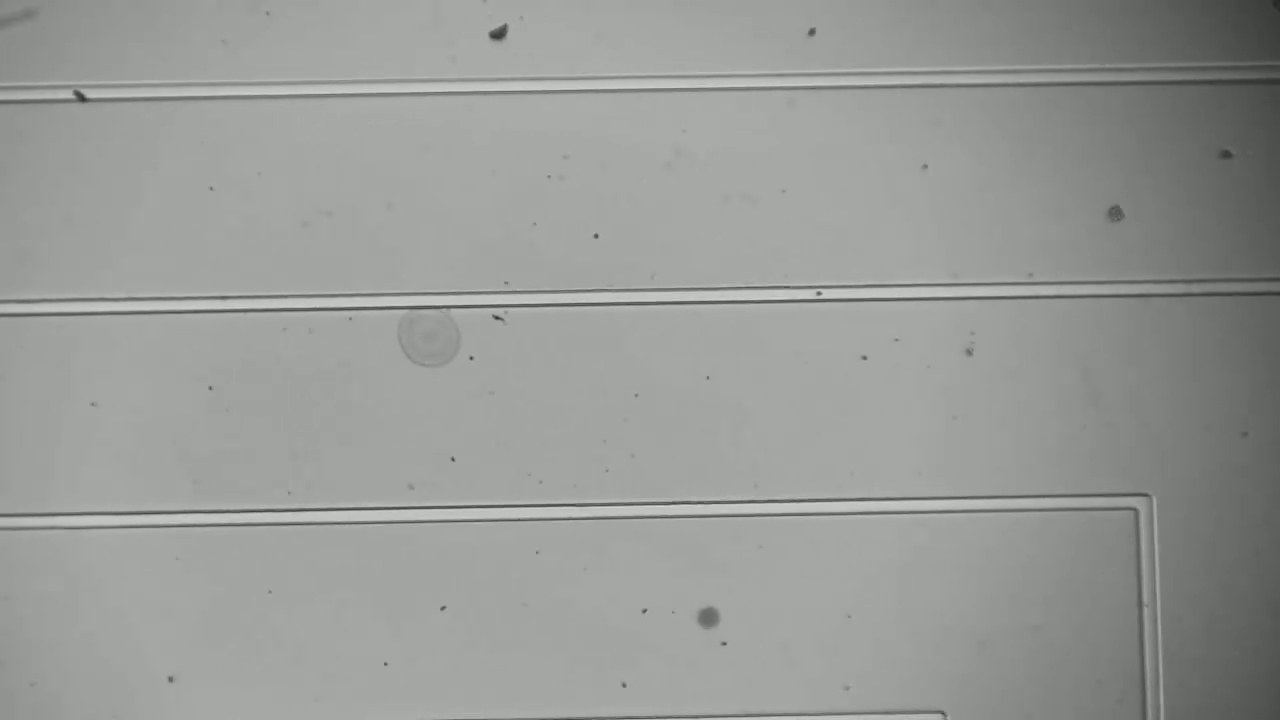stains_enbedded: (67, 82, 92, 110)
